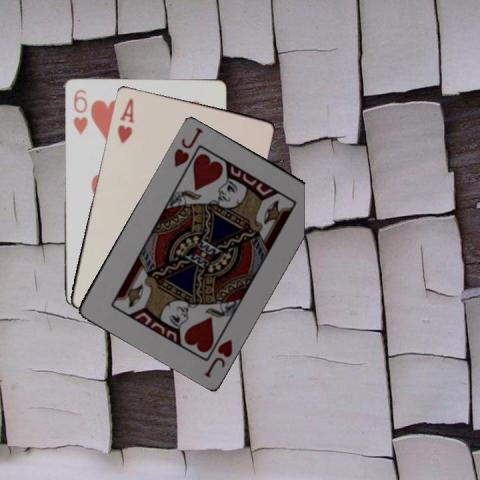6h: (70, 86, 89, 136)
Ah: (114, 94, 135, 145)
Jh: (170, 124, 204, 169), (201, 335, 234, 379)
